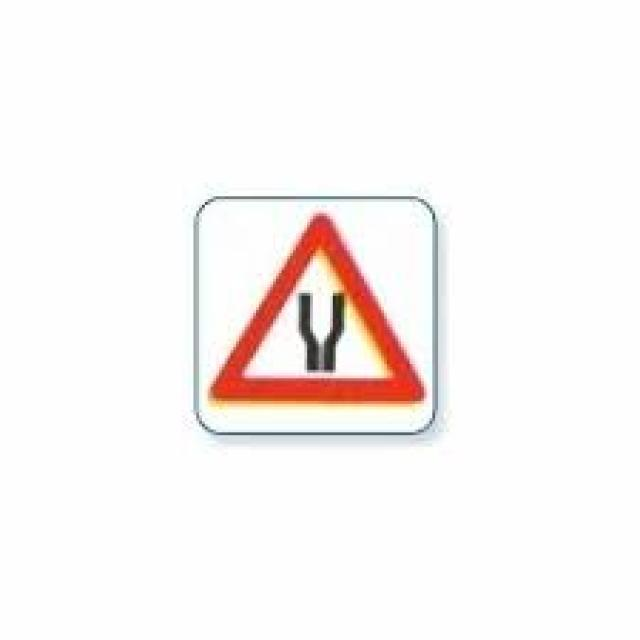road widens ahead: (207, 208, 431, 404)
